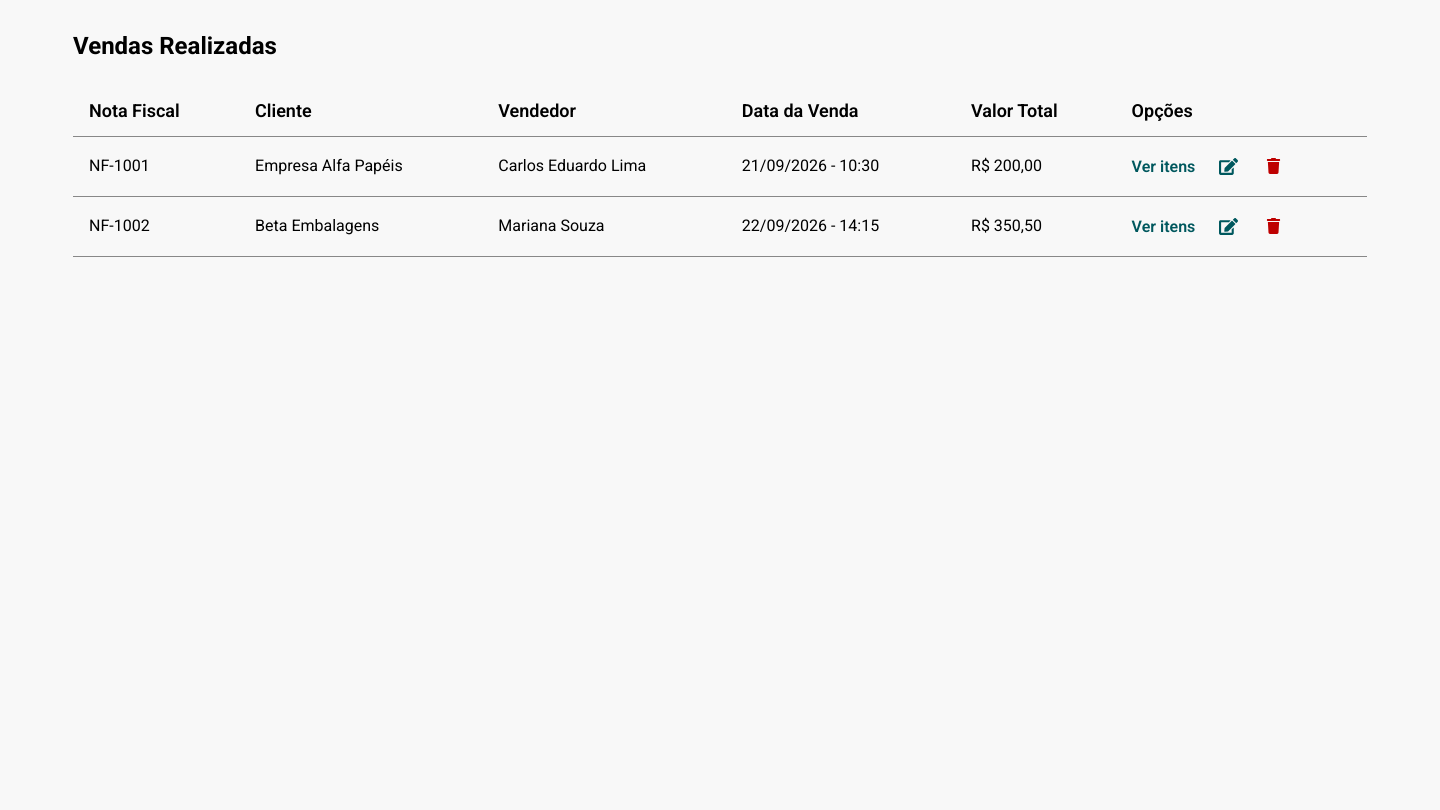
SalesList Page Component › abre modal de confirmação ao clicar no ícone de lixeira e fecha ao clicar em Não
This screenshot has width=1440, height=810.
expect the text "NF-1001" is shown: met, box [73,136,239,196]
// Clica no botão de excluir venda
Click the button named "excluir venda nf-1001".
click(1274, 166)  # box [1262,154,1285,178]
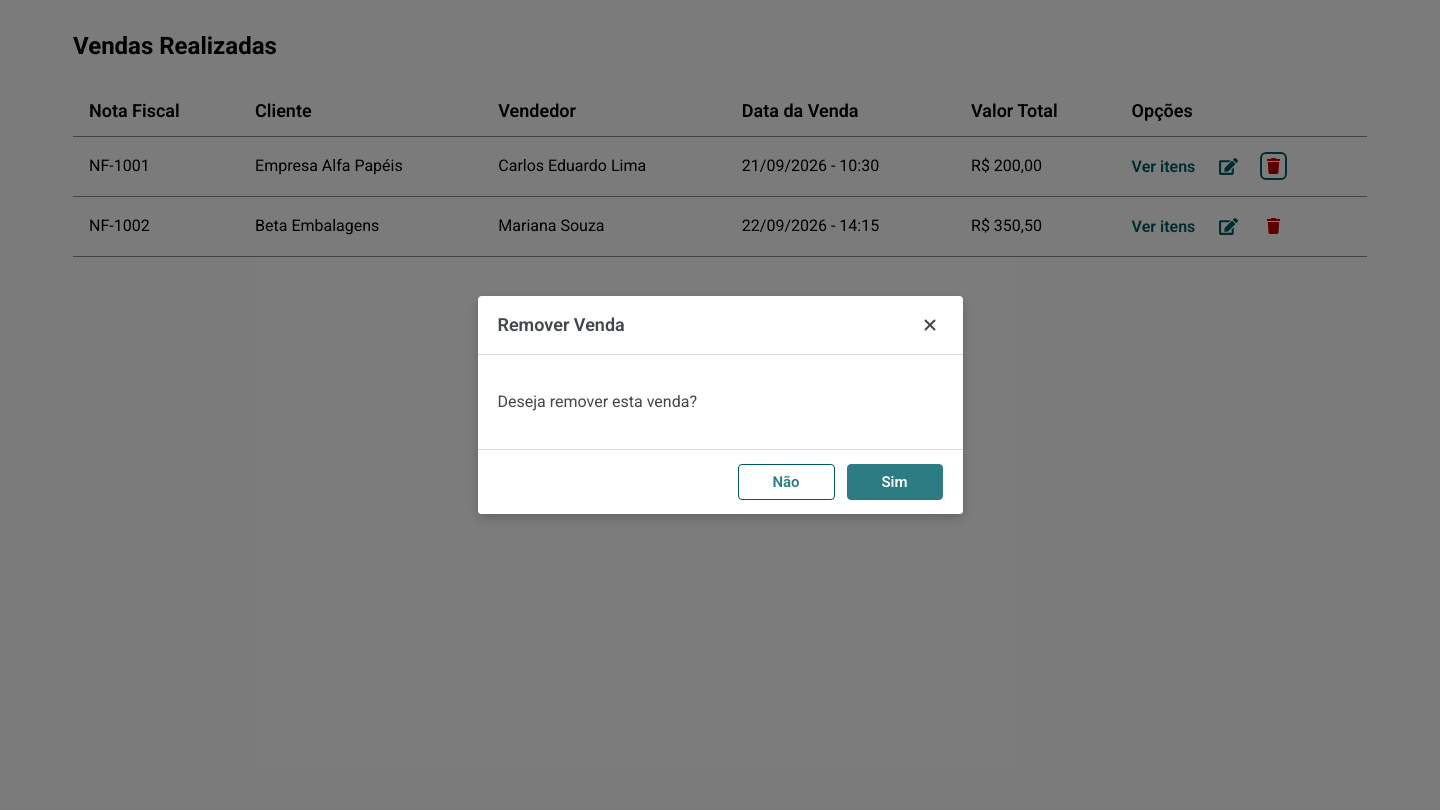
expect the heading "Remover Venda" is shown: met, box [498,313,625,337]
expect the text "Deseja remover esta venda?" is shown: met, box [498,392,697,411]
// Clica em "Não" para cancelar
Click the button "Não".
click(786, 482)  # box [738,464,834,500]
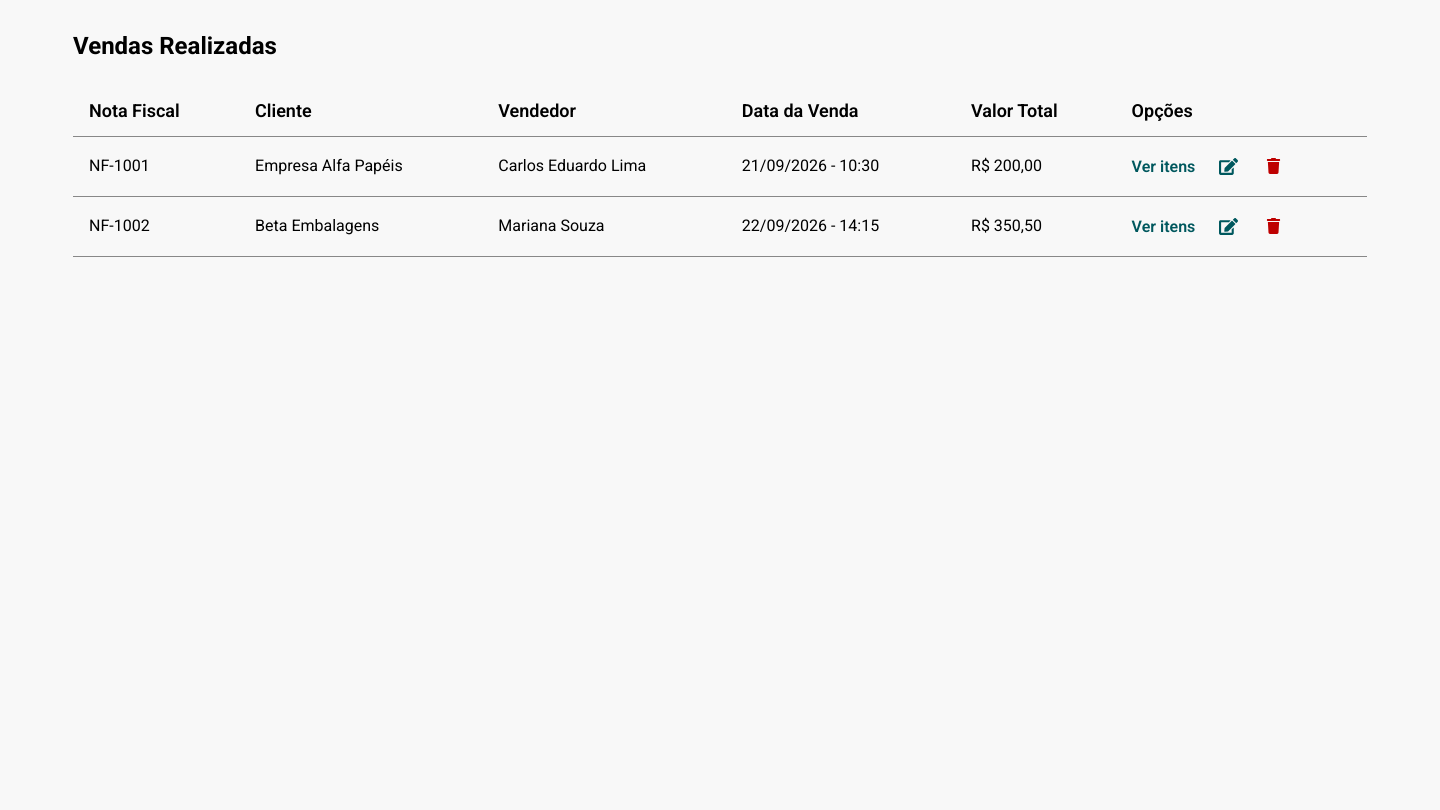
expect the heading "Remover Venda" is gone: met
